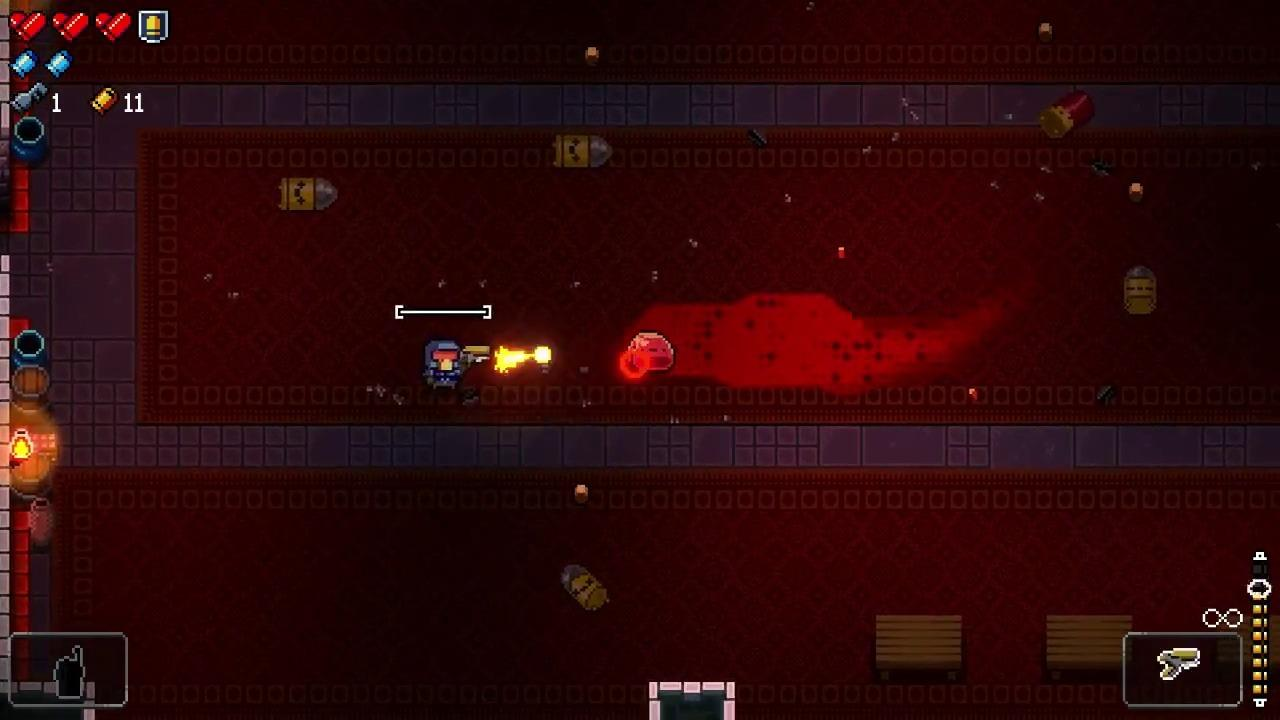blobuloid_m: (631, 333, 675, 371)
dead_bullet_kin: (562, 565, 610, 613), (276, 179, 339, 212), (548, 139, 612, 169), (1125, 264, 1158, 316)
player: (425, 341, 464, 389)
table: (876, 616, 963, 682), (1048, 617, 1133, 684)
